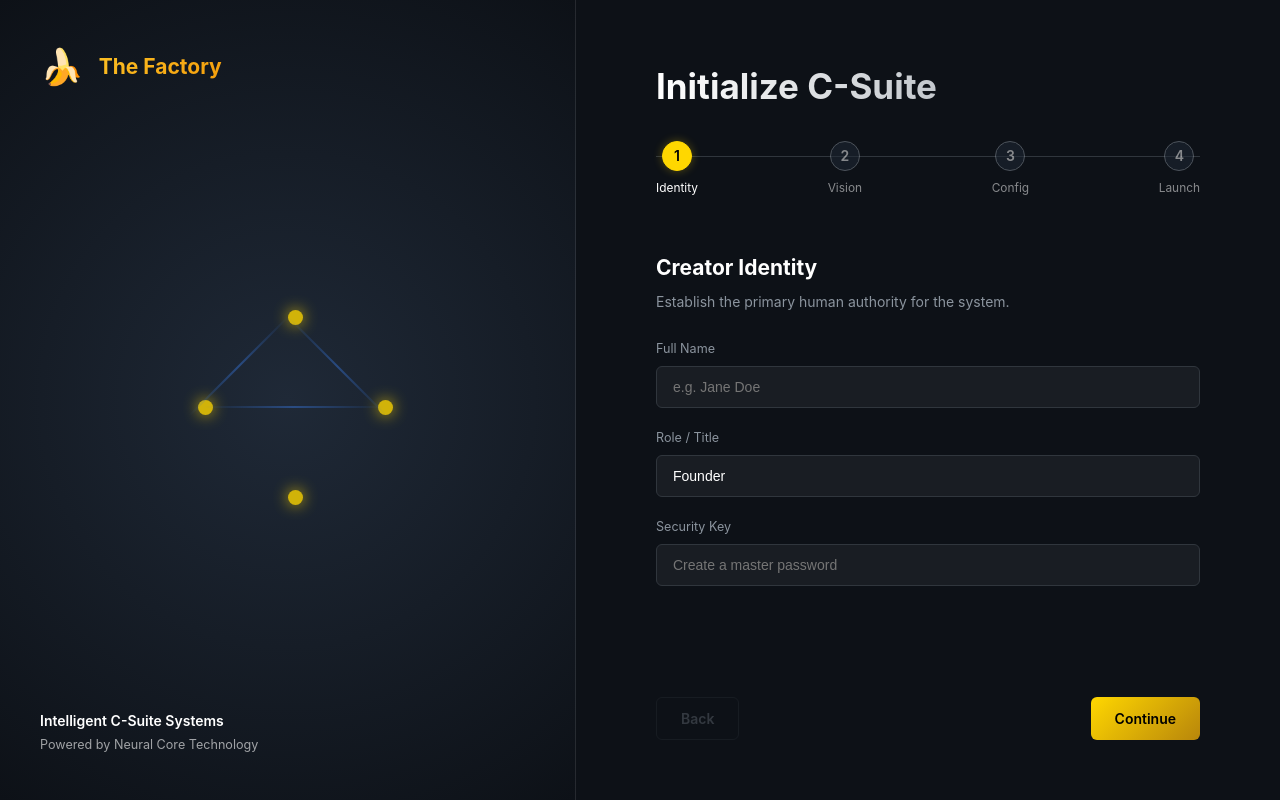
Test case: Onboarding Page › back button navigates to previous step
// Go to step 2
Step 1. Type "John Doe" into the field with placeholder "e.g. Jane Doe" → (928, 387), box [656,366,1200,408]
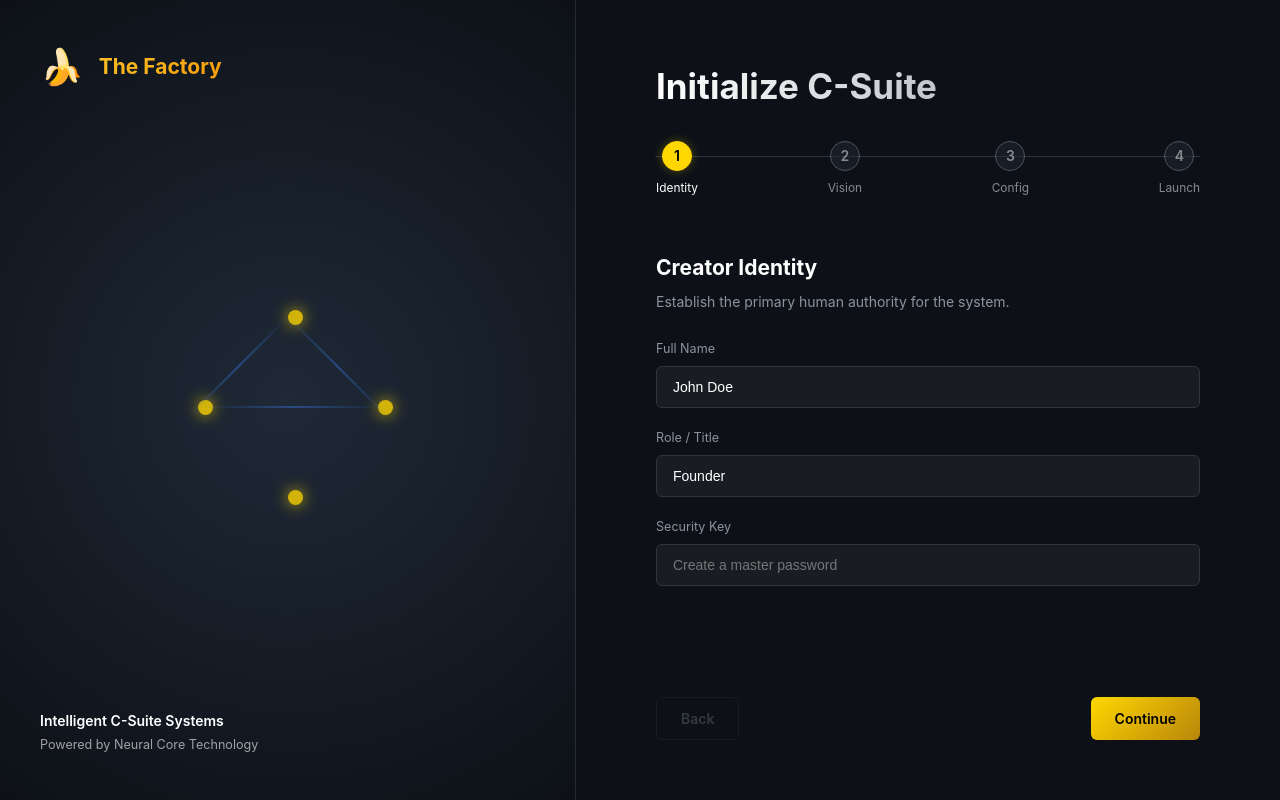
Step 2. Click the button "Continue" → (1145, 718), box [1091,697,1200,740]
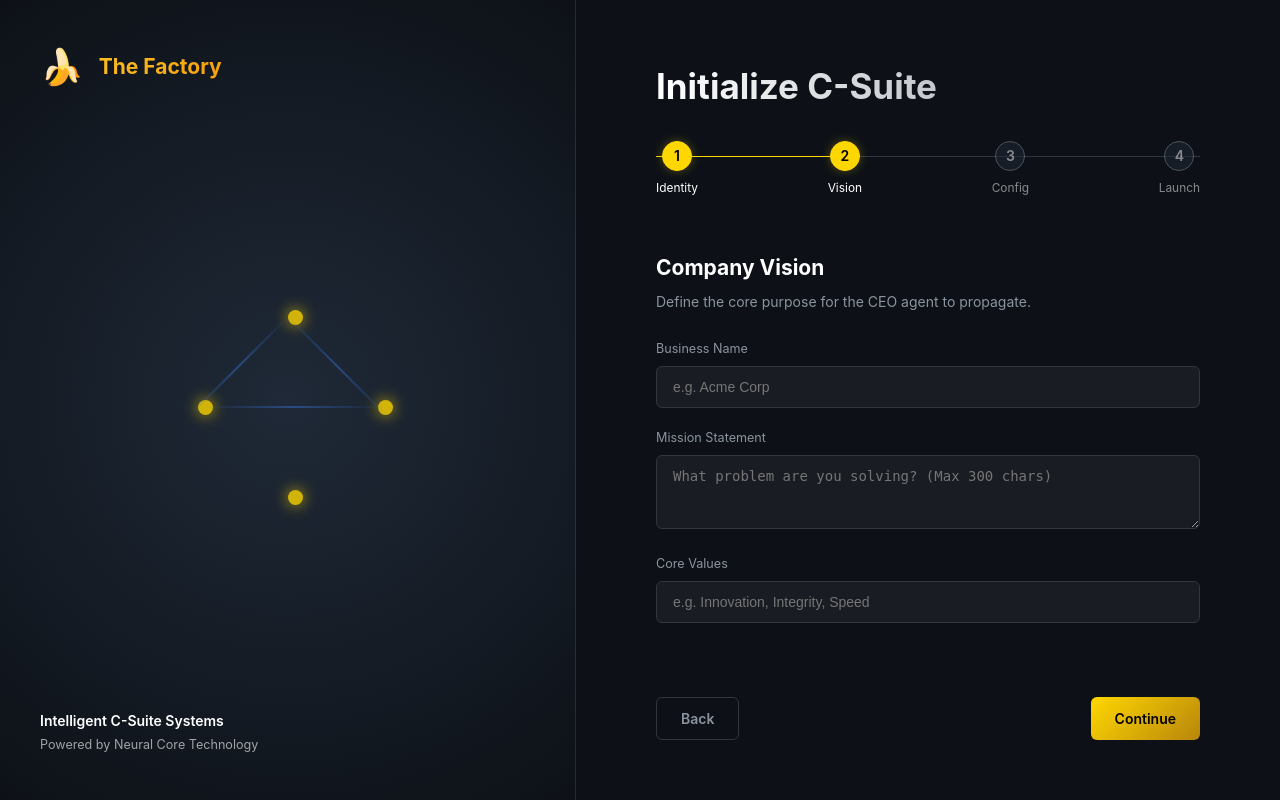
Now the heading "Company Vision" is shown, box [656,255,824,280]
// Go back to step 1
Step 3. Click the button "Back" → (698, 718), box [656,697,739,740]
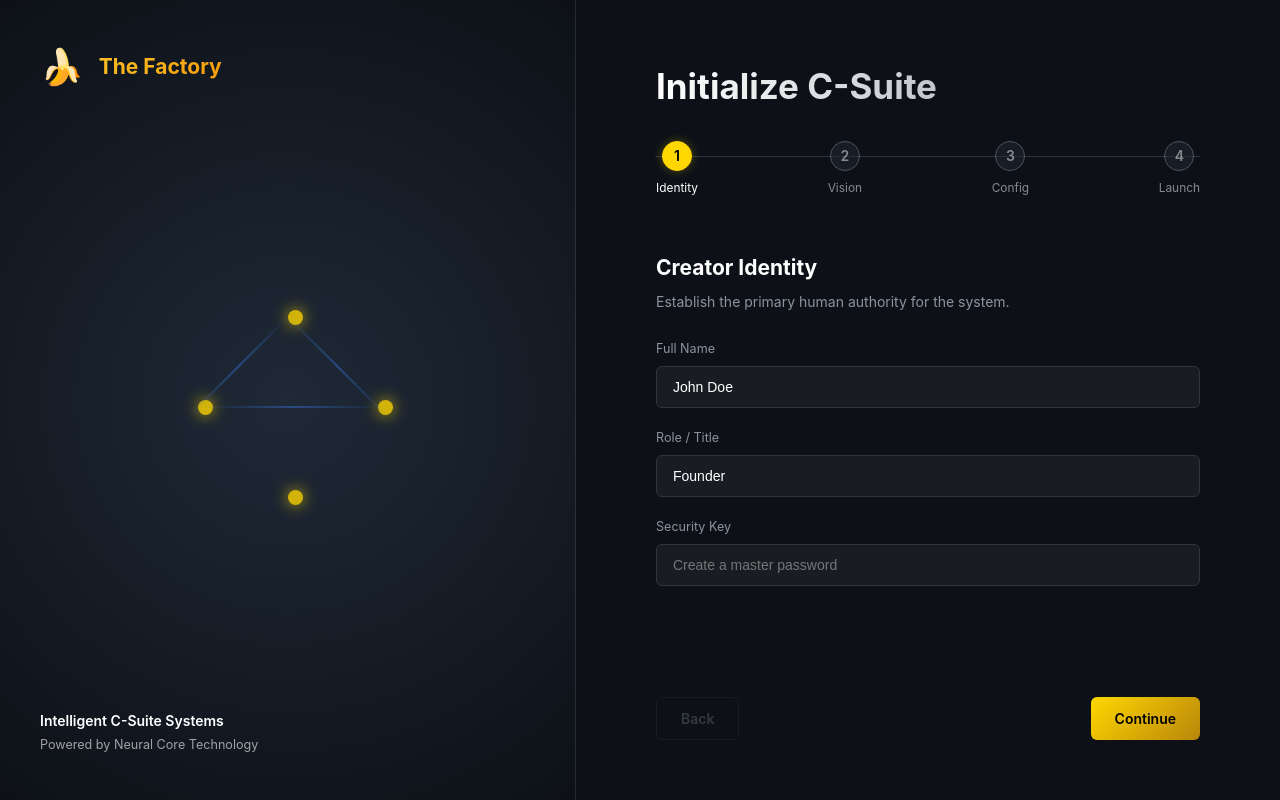
Now the heading "Creator Identity" is shown, box [656,255,817,280]
